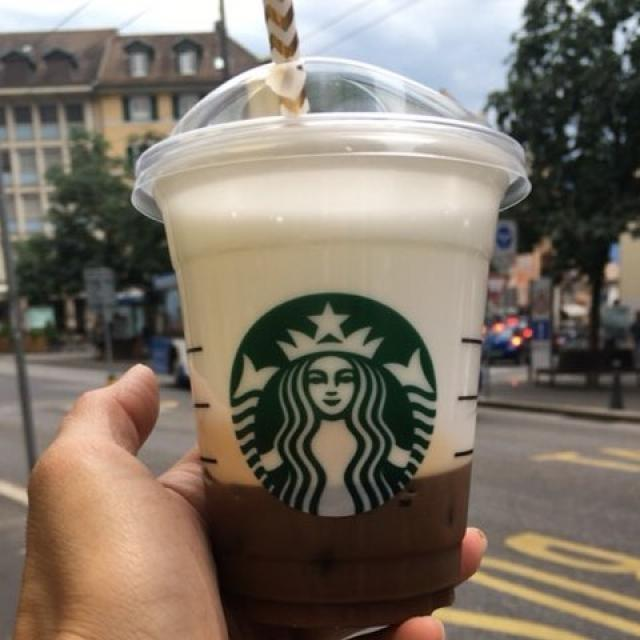coffee: (174, 163, 497, 626)
